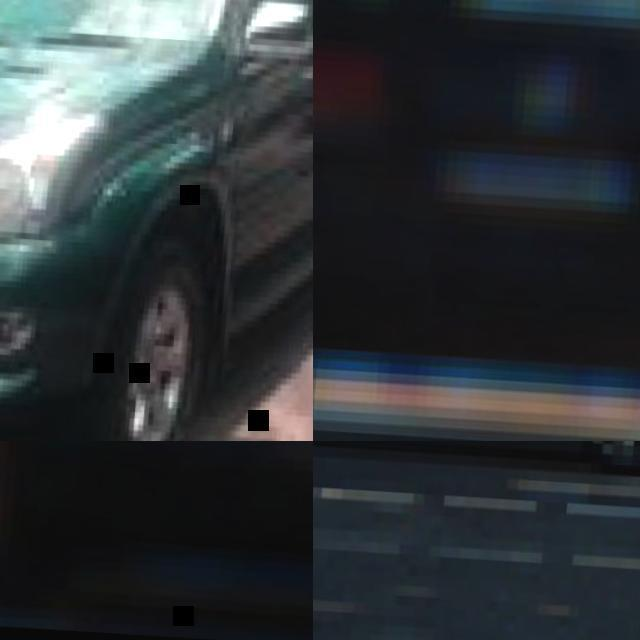car: (5, 0, 310, 432)
